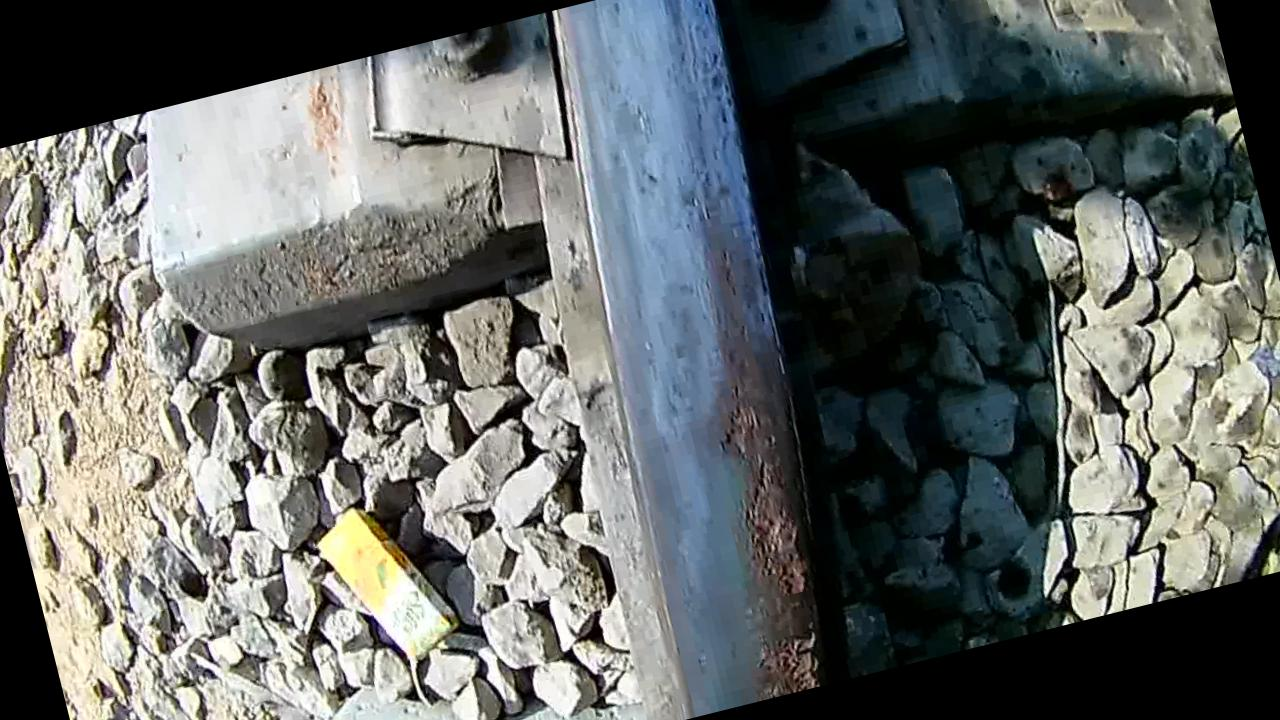crack: (549, 0, 880, 710)
